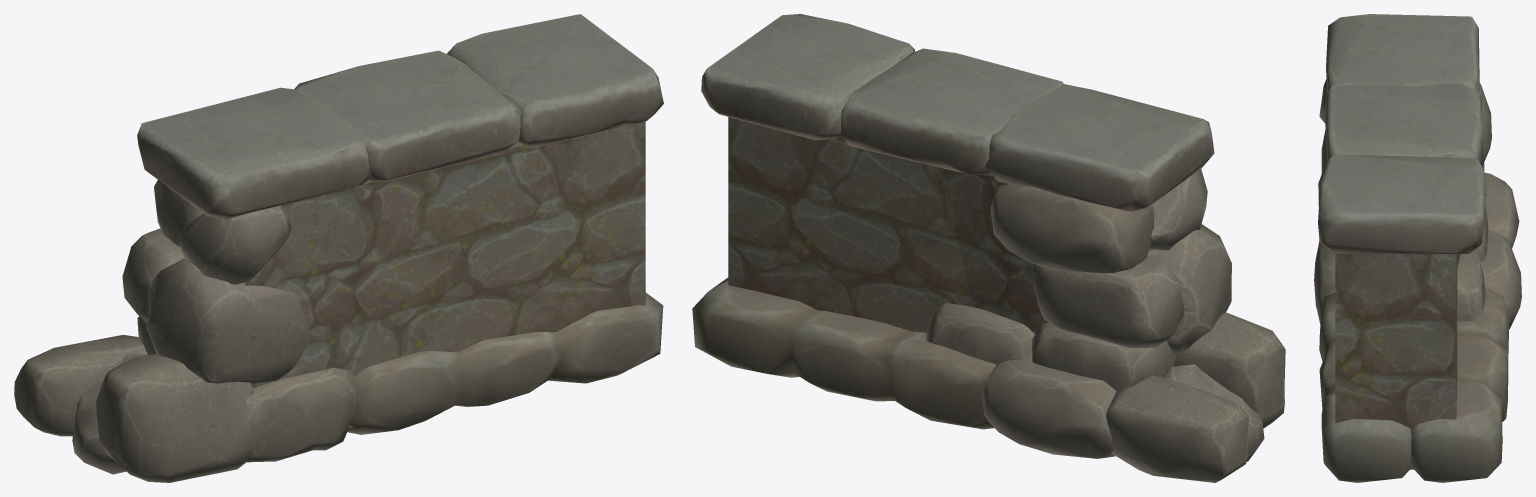
Rendered from SM_FW01_Ruins_Int_Trim_C_2m_Brkn_04.fbx.
3 renders of one model, left to right at view 1: azimuth 30°, elevation 25°; view 2: azimuth 150°, elevation 25°; view 3: azimuth 270°, elevation 25°, orthographic. The views are drawn at different scales.
Visible parts, largest first — view 1: SM_FW01_Ruins_Int_Trim_C_2m_Brkn_04_LOD0, SM_FW01_Ruins_Int_Trim_C_2m_Brkn_04; view 2: SM_FW01_Ruins_Int_Trim_C_2m_Brkn_04_LOD0, SM_FW01_Ruins_Int_Trim_C_2m_Brkn_04; view 3: SM_FW01_Ruins_Int_Trim_C_2m_Brkn_04_LOD0, SM_FW01_Ruins_Int_Trim_C_2m_Brkn_04.
Part boxes in pixels (x1,y1,x2,y2): SM_FW01_Ruins_Int_Trim_C_2m_Brkn_04_LOD0: (14,14,663,482); SM_FW01_Ruins_Int_Trim_C_2m_Brkn_04: (245,121,645,427); SM_FW01_Ruins_Int_Trim_C_2m_Brkn_04_LOD0: (692,14,1285,482); SM_FW01_Ruins_Int_Trim_C_2m_Brkn_04: (728,117,1048,333); SM_FW01_Ruins_Int_Trim_C_2m_Brkn_04_LOD0: (1314,14,1521,482); SM_FW01_Ruins_Int_Trim_C_2m_Brkn_04: (1335,254,1460,469).
Size of what is drawn, in the model's own units: 2.44 by 1.31 by 0.8521.
